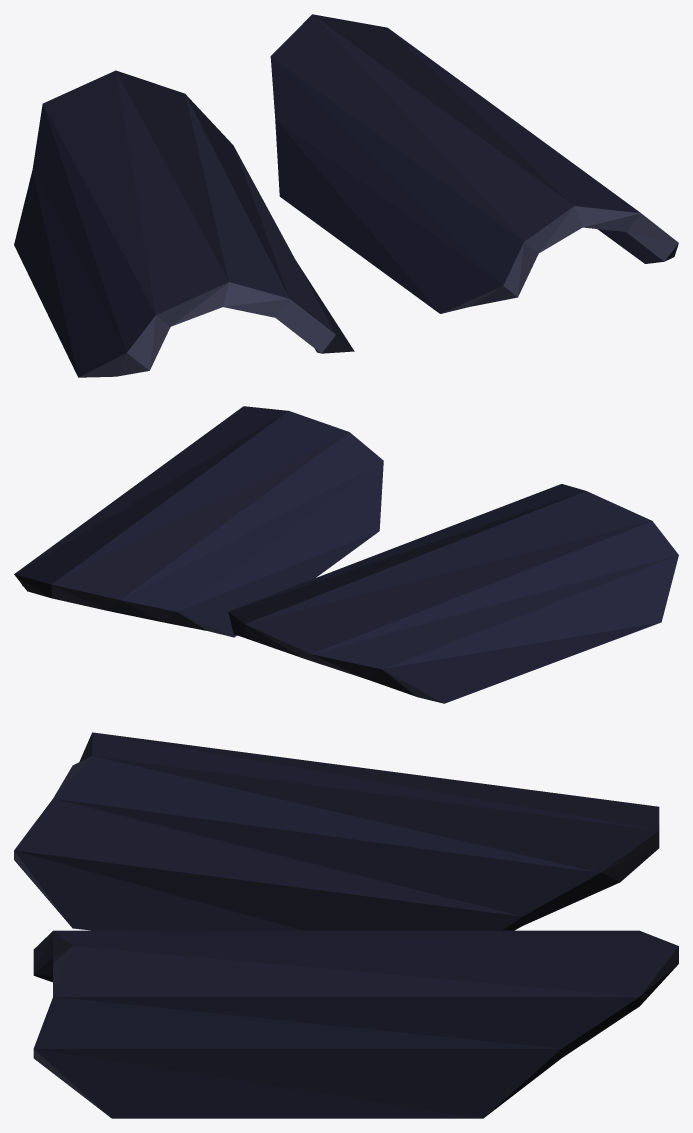
File: blue-dhide-vambraces.obj
3 renders of one model, top to bottom at view 1: azimuth 30°, elevation 25°; view 2: azimuth 150°, elevation 25°; view 3: azimuth 270°, elevation 25°, orthographic. The views are drawn at different scales.
Visible parts, largest first — view 1: Item Blue d'hide vambraces 2026-09-24_17-11-08; view 2: Item Blue d'hide vambraces 2026-09-24_17-11-08; view 3: Item Blue d'hide vambraces 2026-09-24_17-11-08.
Part boxes in pixels (x1,y1,x2,y2): Item Blue d'hide vambraces 2026-09-24_17-11-08: (14, 14, 678, 377); Item Blue d'hide vambraces 2026-09-24_17-11-08: (14, 406, 678, 703); Item Blue d'hide vambraces 2026-09-24_17-11-08: (14, 732, 678, 1118).
Size of the model in its own units: 39 by 6 by 34.
